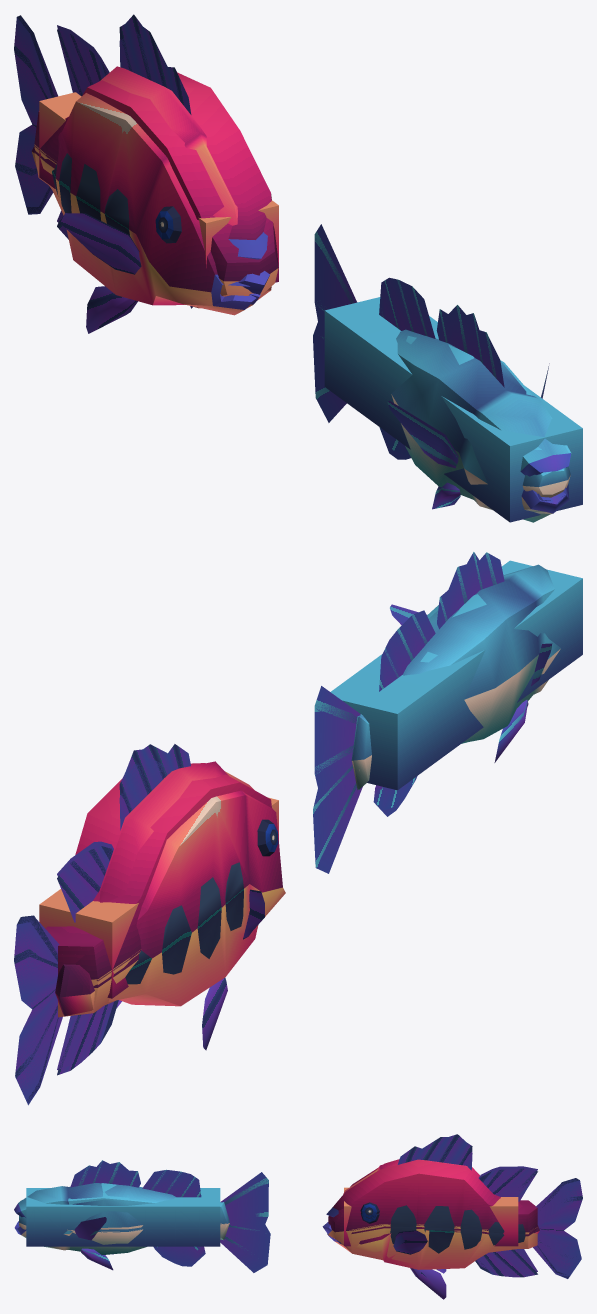
Rendered from FishSteps.fbx.
3 renders of one model, top to bottom at view 1: azimuth 30°, elevation 25°; view 2: azimuth 150°, elevation 25°; view 3: azimuth 270°, elevation 25°, orthographic. The views are drawn at different scales.
Visible parts, largest first — view 1: pSphere11, pPlane15, pCube11, pCube23, pPlane31, pPlane30, pCube16, pCube15, pCube14; view 2: pSphere11, pPlane15, pCube11, pPlane31, pCube23, pPlane30, pCube15; view 3: pCube23, pSphere11, pPlane31, pPlane15, pCube11, pPlane30, pCube15, pCube16, pCube17, pCube31, pCube30.
Boxes of the visible parts, bbox=[...] form: pSphere11: bbox=[14, 14, 256, 333]; pPlane15: bbox=[313, 224, 570, 522]; pCube11: bbox=[324, 297, 582, 522]; pCube23: bbox=[34, 72, 271, 294]; pPlane31: bbox=[14, 17, 271, 308]; pPlane30: bbox=[313, 225, 568, 513]; pCube16: bbox=[34, 145, 278, 296]; pCube15: bbox=[39, 92, 278, 282]; pCube14: bbox=[522, 466, 570, 497]; pSphere11: bbox=[14, 744, 285, 1103]; pPlane15: bbox=[313, 552, 560, 873]; pCube11: bbox=[330, 560, 582, 790]; pPlane31: bbox=[14, 758, 187, 1105]; pCube23: bbox=[45, 763, 271, 1006]; pPlane30: bbox=[313, 553, 503, 873]; pCube15: bbox=[39, 797, 278, 998]; pCube23: bbox=[322, 1159, 537, 1251]; pSphere11: bbox=[327, 1134, 582, 1298]; pPlane31: bbox=[327, 1142, 582, 1299]; pPlane15: bbox=[14, 1160, 270, 1272]; pCube11: bbox=[26, 1188, 220, 1246]; pPlane30: bbox=[15, 1160, 270, 1272]; pCube15: bbox=[344, 1187, 518, 1246]; pCube16: bbox=[328, 1204, 537, 1253]; pCube17: bbox=[17, 1192, 226, 1234]; pCube31: bbox=[352, 1202, 537, 1255]; pCube30: bbox=[14, 1183, 229, 1234].
Size of the model in its own units: 2.61 by 3.87 by 12.92.
